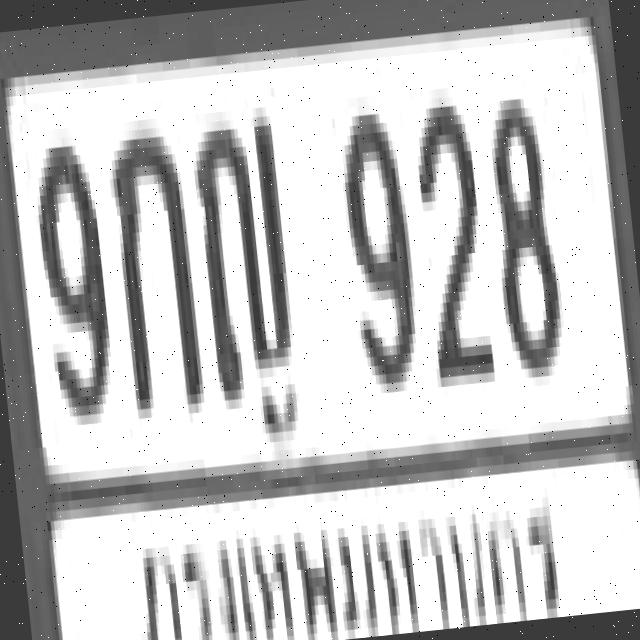10GorGai: (103, 112, 200, 405)
2: (408, 95, 490, 378)
22YorYing: (186, 107, 297, 401)
8: (478, 87, 562, 370)
9: (334, 102, 420, 386), (27, 135, 112, 409)
Bangkok: (112, 458, 570, 640)
